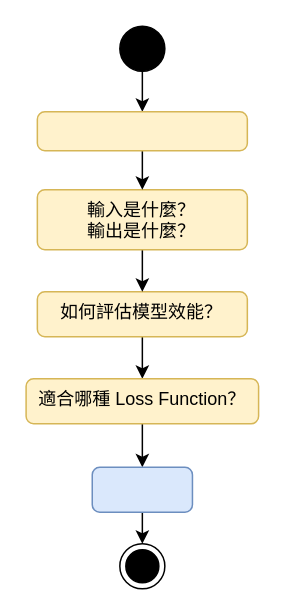
The diagram is 285 pixels wide and 615 high, and some of its shapes have lost their labels. Here are the shapes that lost their labels. From the top down, the centre of each, then its label:
At [141,130]: "屬於哪種任務類型？".
At [141,489]: "開始訓練".
